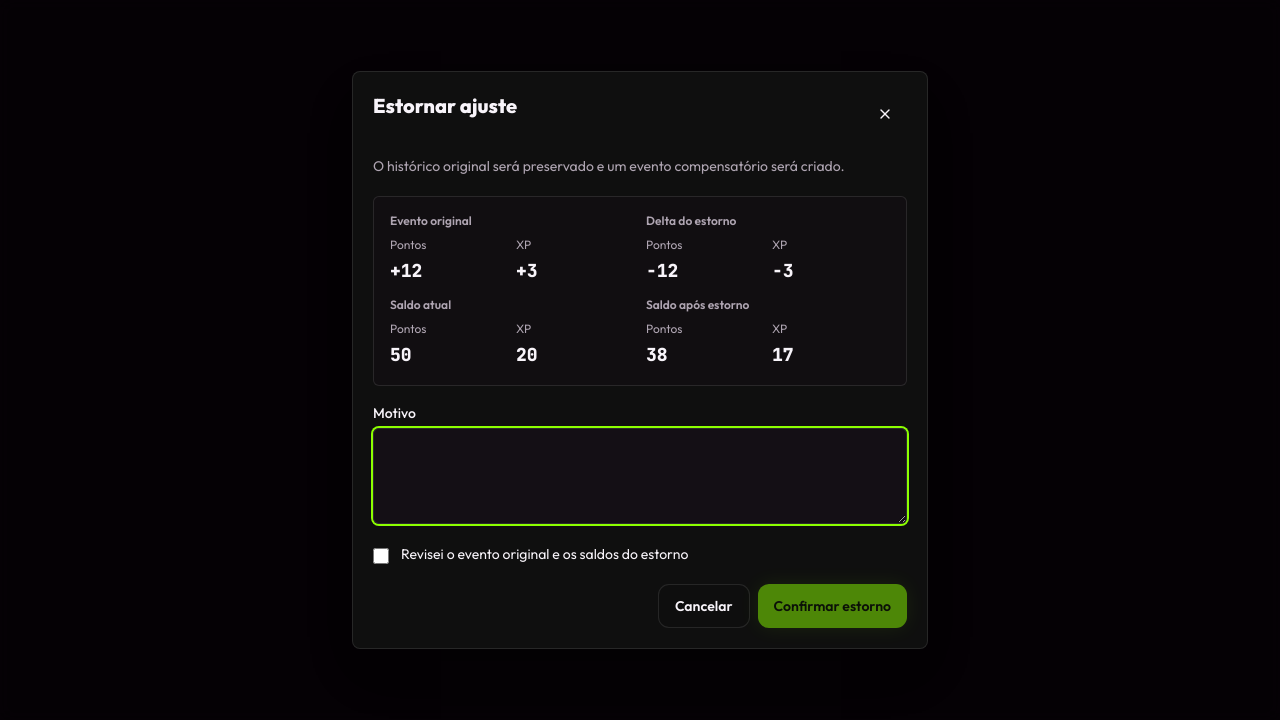
it: reversal dialog › uses the dedicated conflict copy and preserves the reason
Type "Estorno solicitado" into the text box labelled "Motivo" at (640, 476), box left=373, top=428, right=907, bottom=524
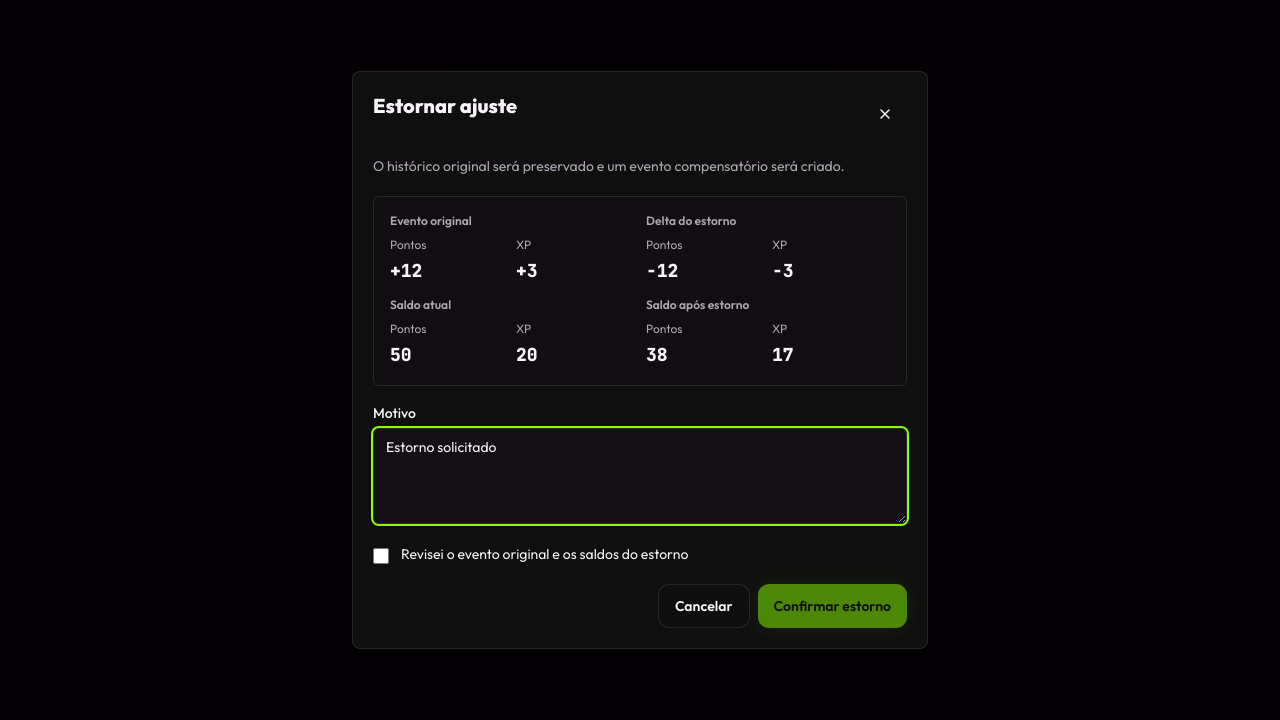
Click the checkbox labelled "Revisei o evento original e os saldos do estorno" at (381, 556), box left=373, top=548, right=389, bottom=564
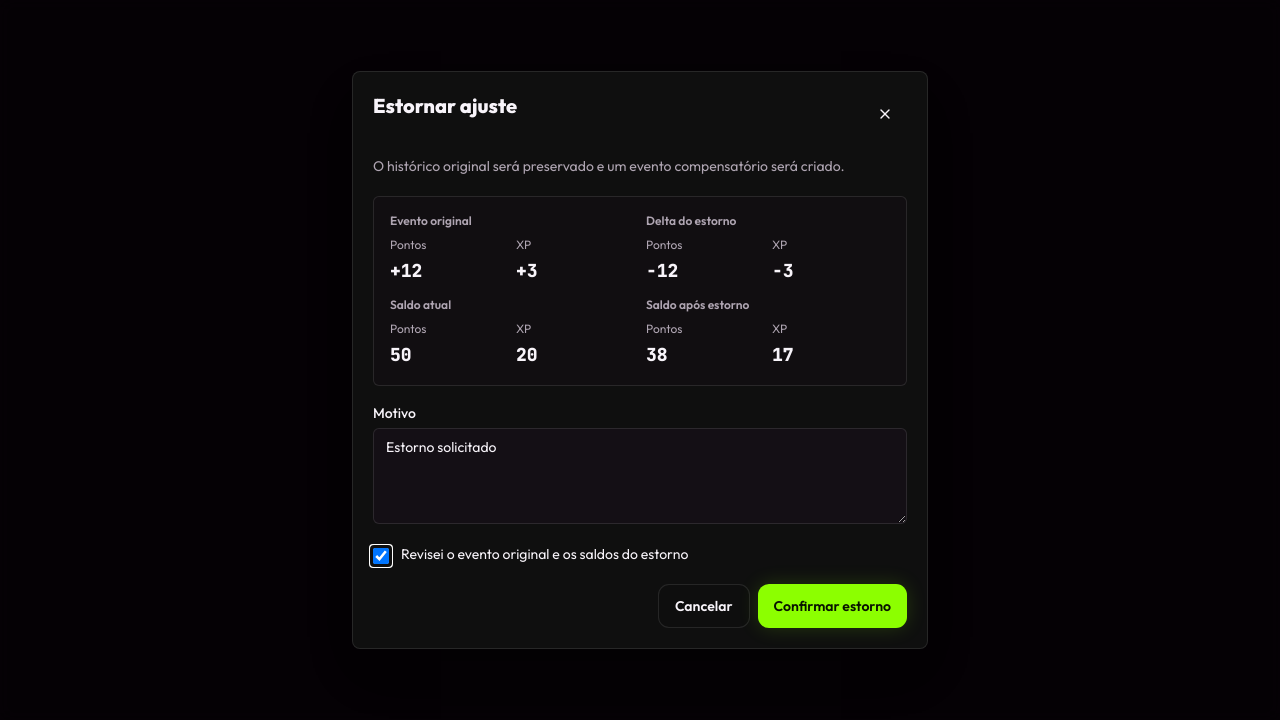
Click the button "Confirmar estorno" at (832, 606), box left=758, top=584, right=907, bottom=628
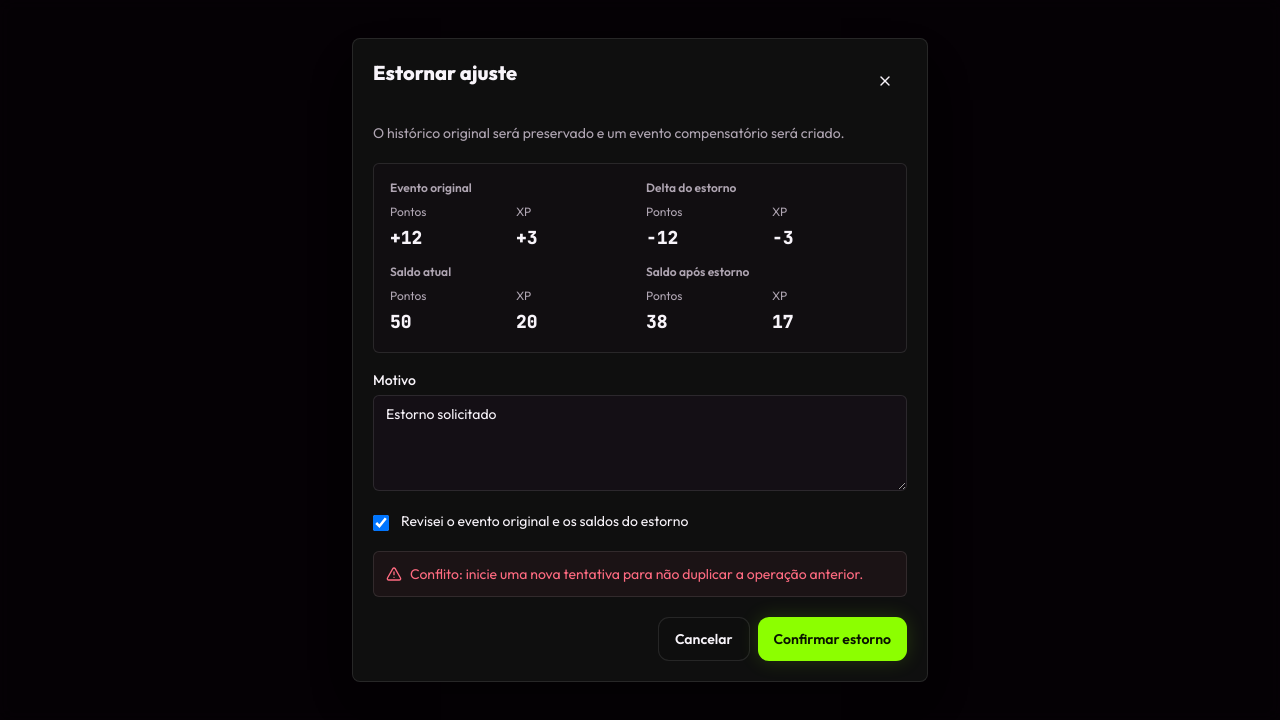
expect the message shows "Conflito": met, box left=410, top=565, right=863, bottom=583
